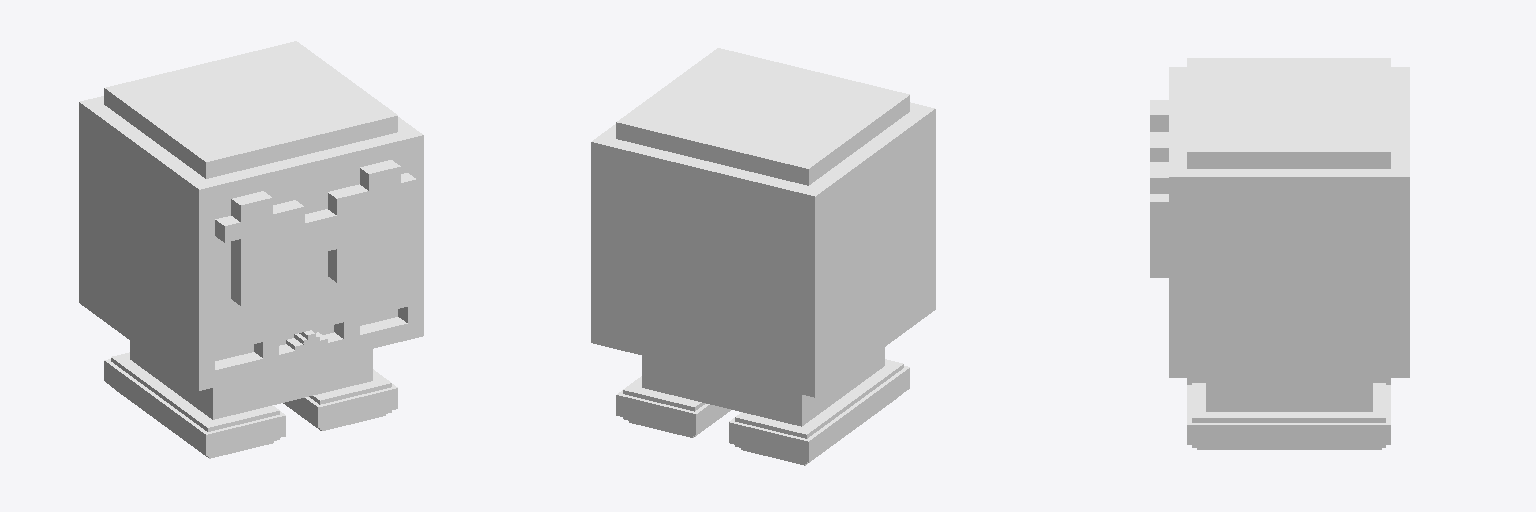
The model's file is goomba_alternativo-0.obj.
The picture shows the model from 3 angles: view 1: azimuth 30°, elevation 25°; view 2: azimuth 150°, elevation 25°; view 3: azimuth 270°, elevation 25°; orthographic projection.
Visible parts, largest first — view 1: object 1; view 2: object 1; view 3: object 1.
Part boxes in pixels (x1,y1,x2,y2): object 1: (79, 41, 423, 458); object 1: (591, 48, 935, 465); object 1: (1150, 58, 1409, 449).
Size of the model in its own units: 5.6 by 7.2 by 5.6.